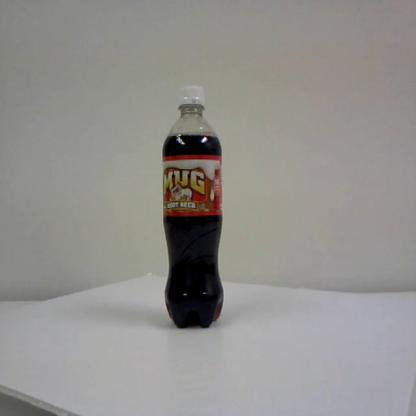bottle: (162, 79, 225, 333)
